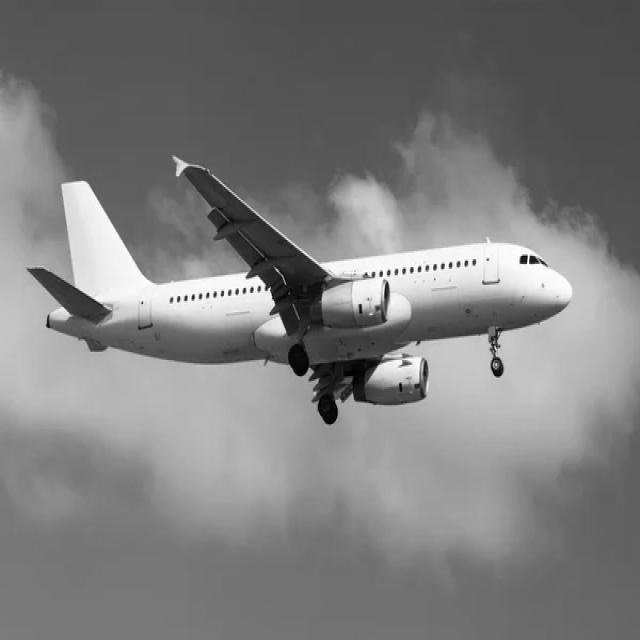Aircraft: (26, 150, 580, 424)
